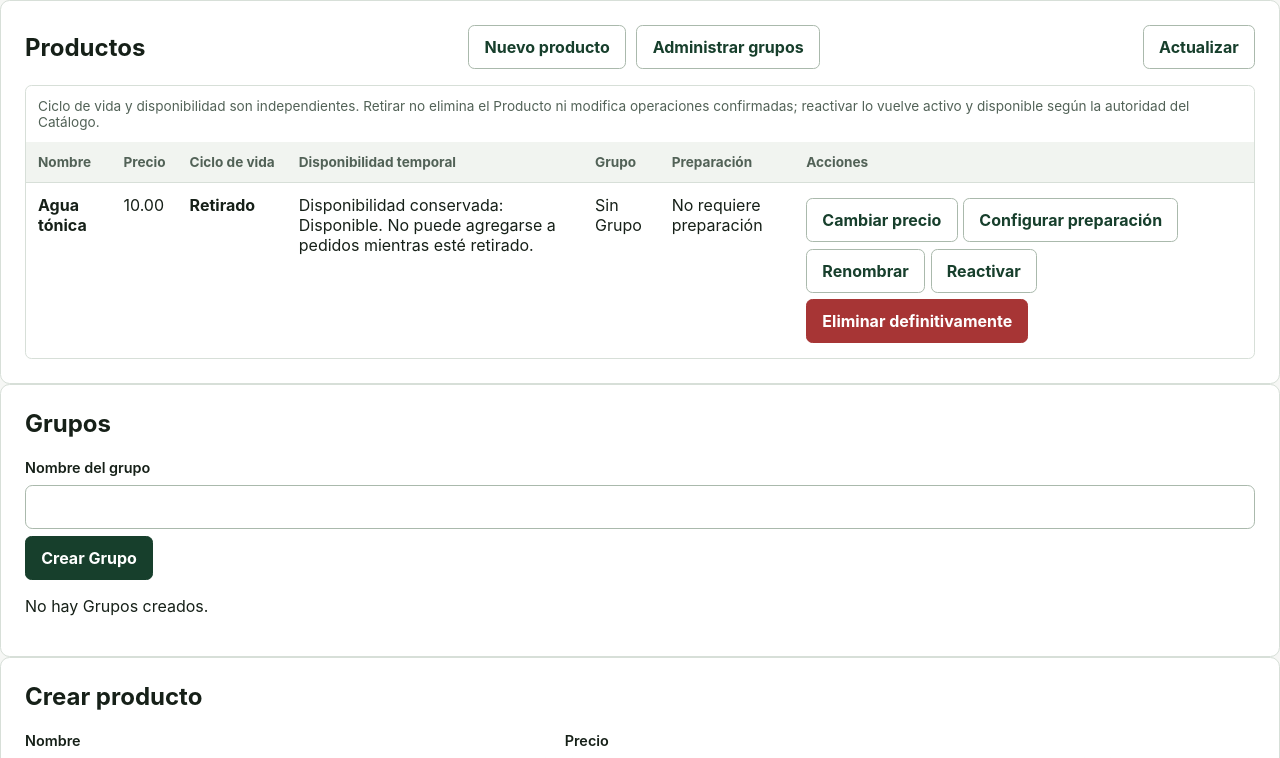
Test: CatalogPanel - eliminación definitiva › prioritizes Retirado and does not suggest retiring it again
Expected: the row "Agua tónica" shows "Disponibilidad conservada: Disponible", [26,182,1254,358]
Expected: the row "Agua tónica" shows "No puede agregarse a pedidos", [299,215,556,255]
Click the button with aria-label "Eliminar definitivamente Agua tónica". click: (917, 321)
box: [806,299,1028,343]
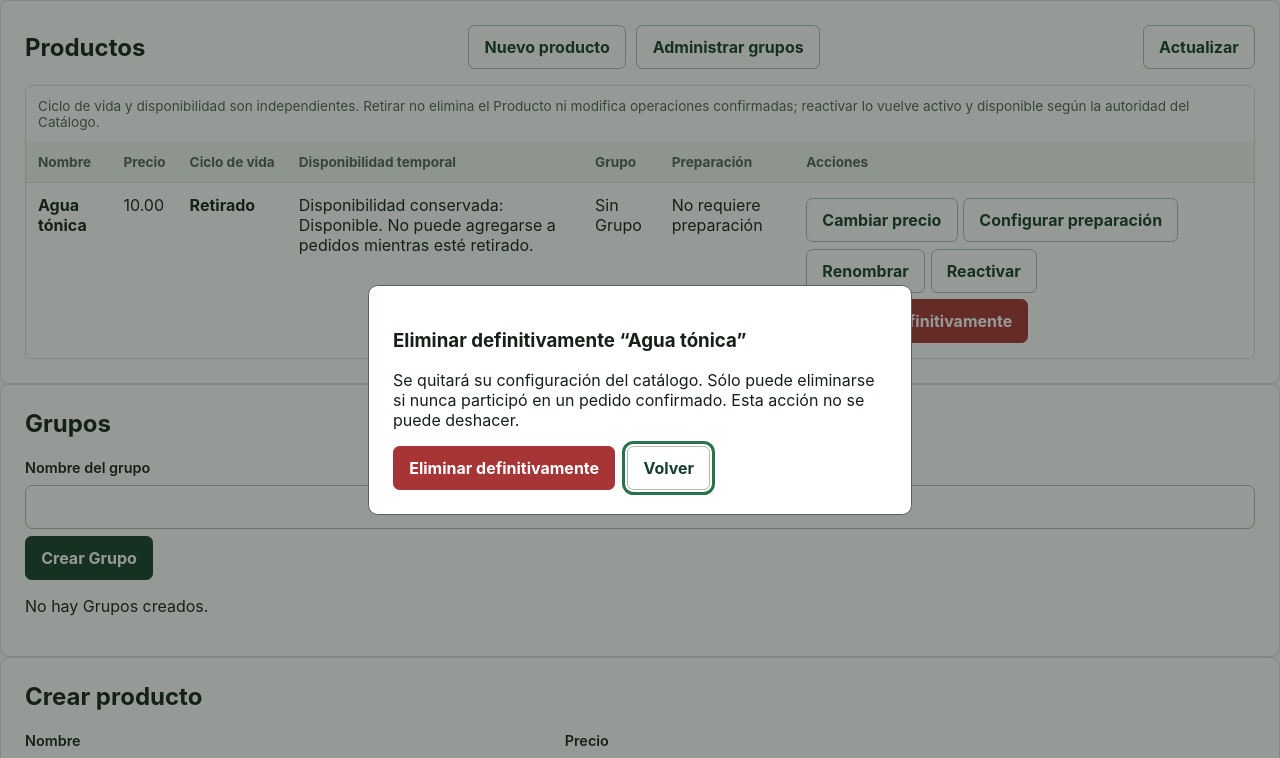
Click the button "Eliminar definitivamente". click: (504, 468)
box: [393,446,615,490]
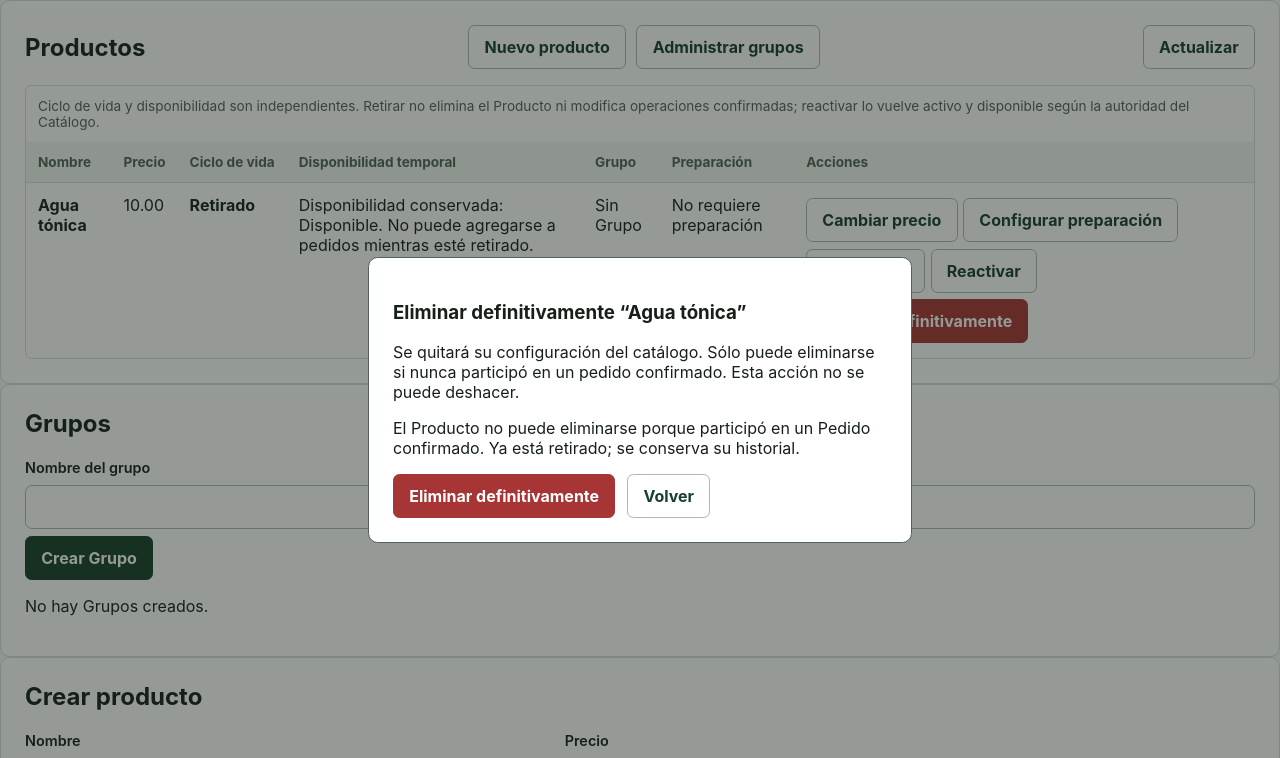
Result: the text "Ya está retirado" is shown at [393,418,870,458]
